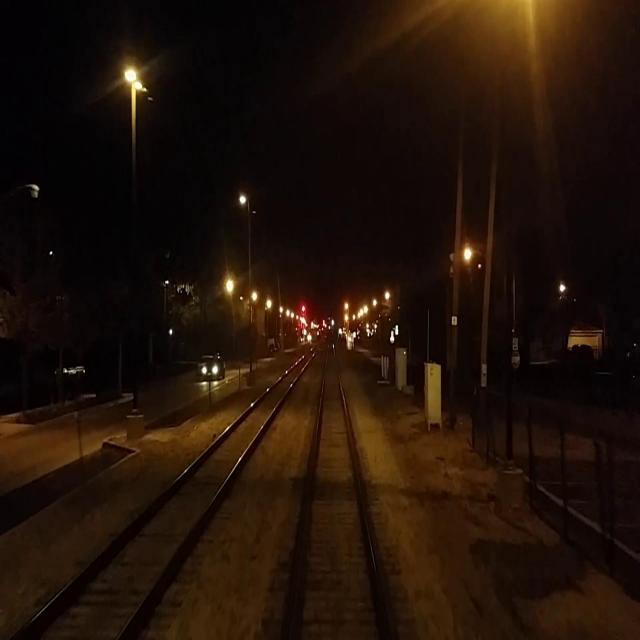rail-track: (19, 351, 313, 639), (289, 341, 386, 639)
